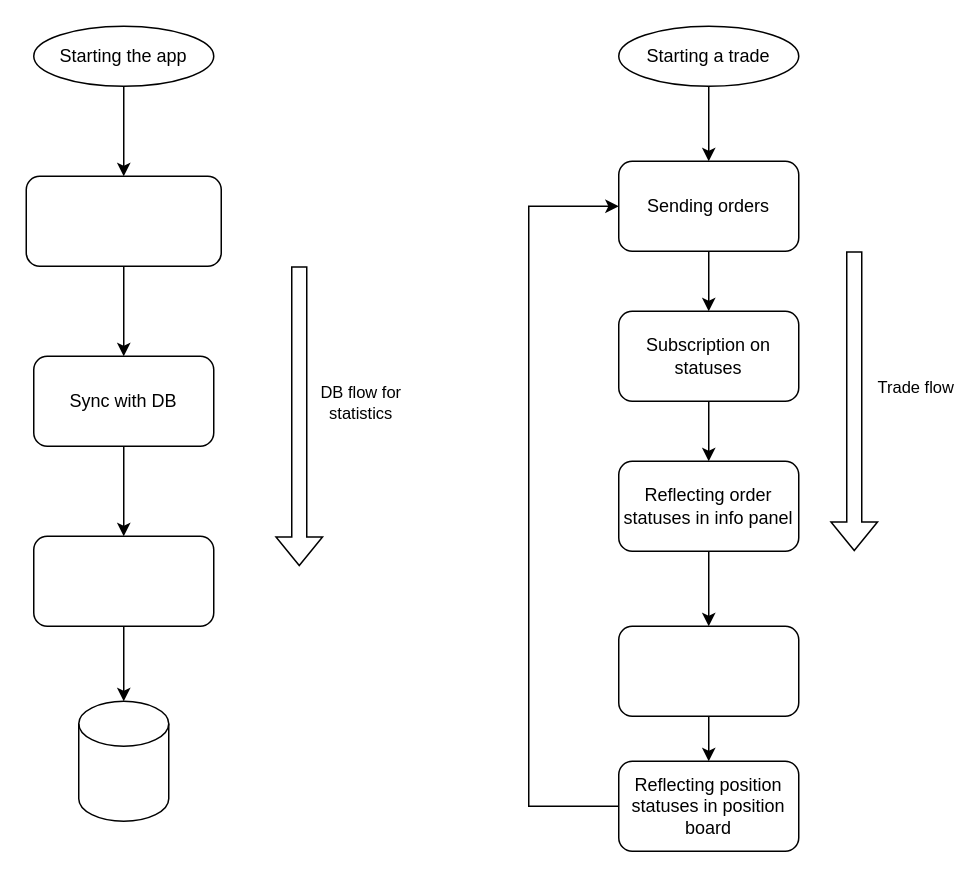
Image size: 980x878. Some labels were removed from this diagram. Each missing label, with the centre of its shape:
"Creating/updating trade records" goes at point (123, 580).
"Getting last active/inactive orders" goes at point (123, 220).
"Subscription on positions" goes at point (708, 670).
